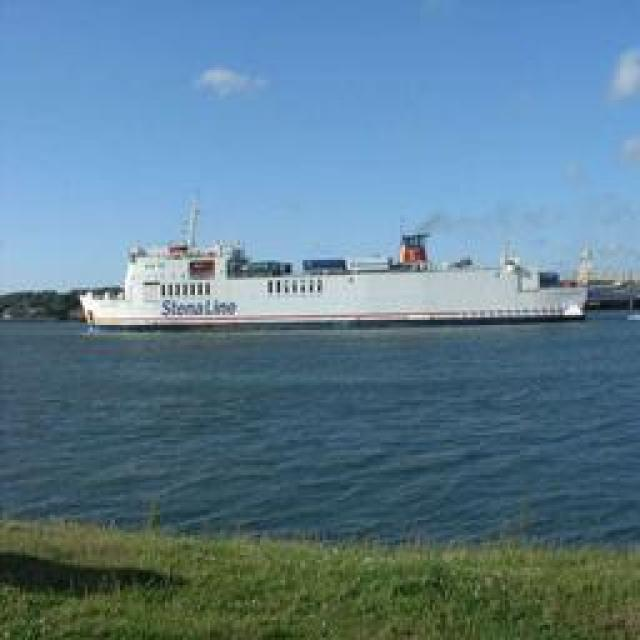CIV_Ship: (81, 206, 586, 332)
